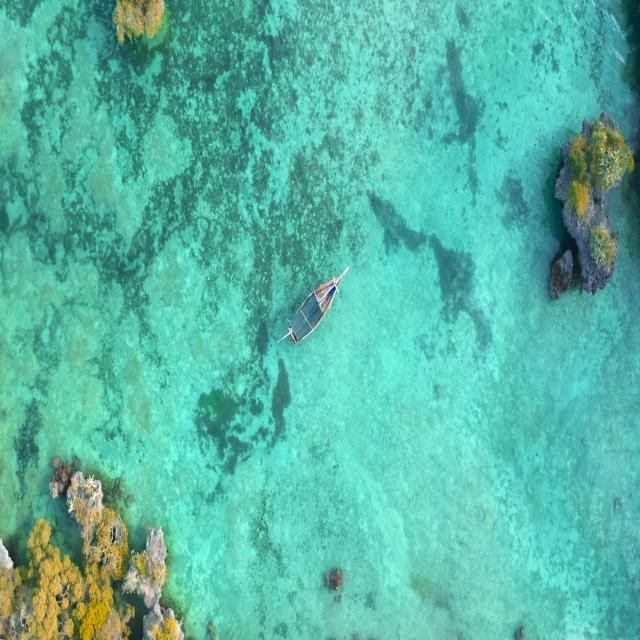ship: (277, 262, 355, 348)
